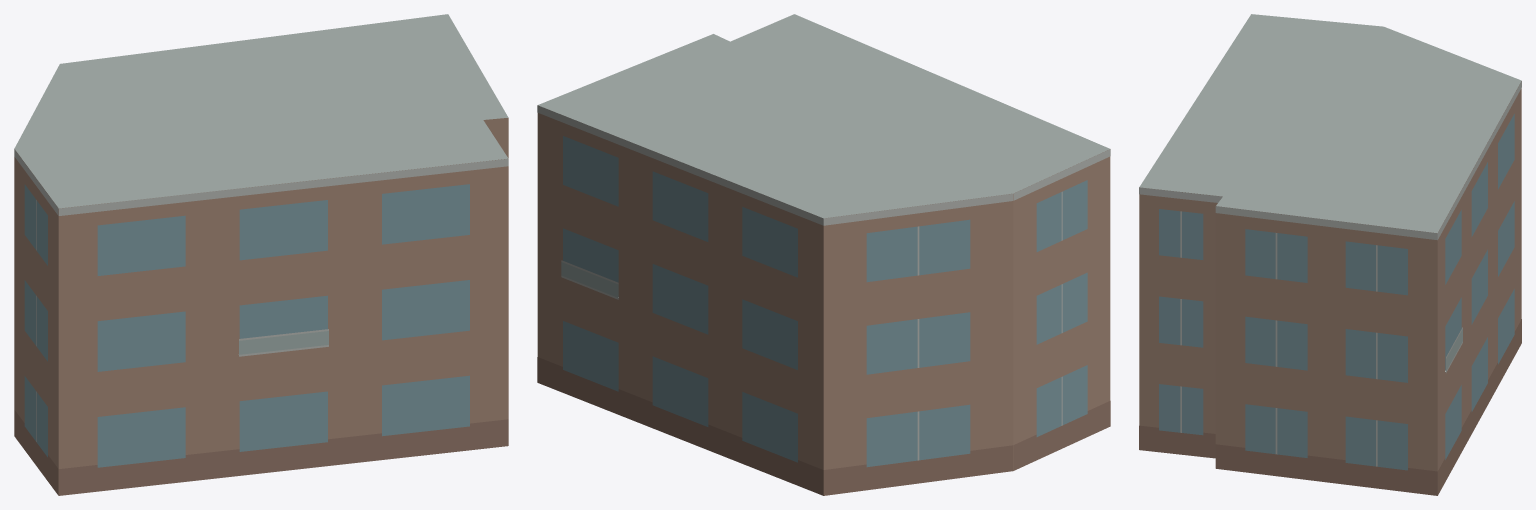
File: survey-upis-32797632.glb
3 renders of one model, left to right at view 1: azimuth 30°, elevation 25°; view 2: azimuth 150°, elevation 25°; view 3: azimuth 270°, elevation 25°, orthographic. The views are drawn at different scales.
Visible parts, largest first — view 1: survey-upis-32797632.tmp; view 2: survey-upis-32797632.tmp; view 3: survey-upis-32797632.tmp.
Part boxes in pixels (x1,y1,x2,y2): survey-upis-32797632.tmp: (14,14,508,495); survey-upis-32797632.tmp: (537,14,1110,495); survey-upis-32797632.tmp: (1139,14,1521,495).
Size of the model in its own units: 16.39 by 9.15 by 12.09.
